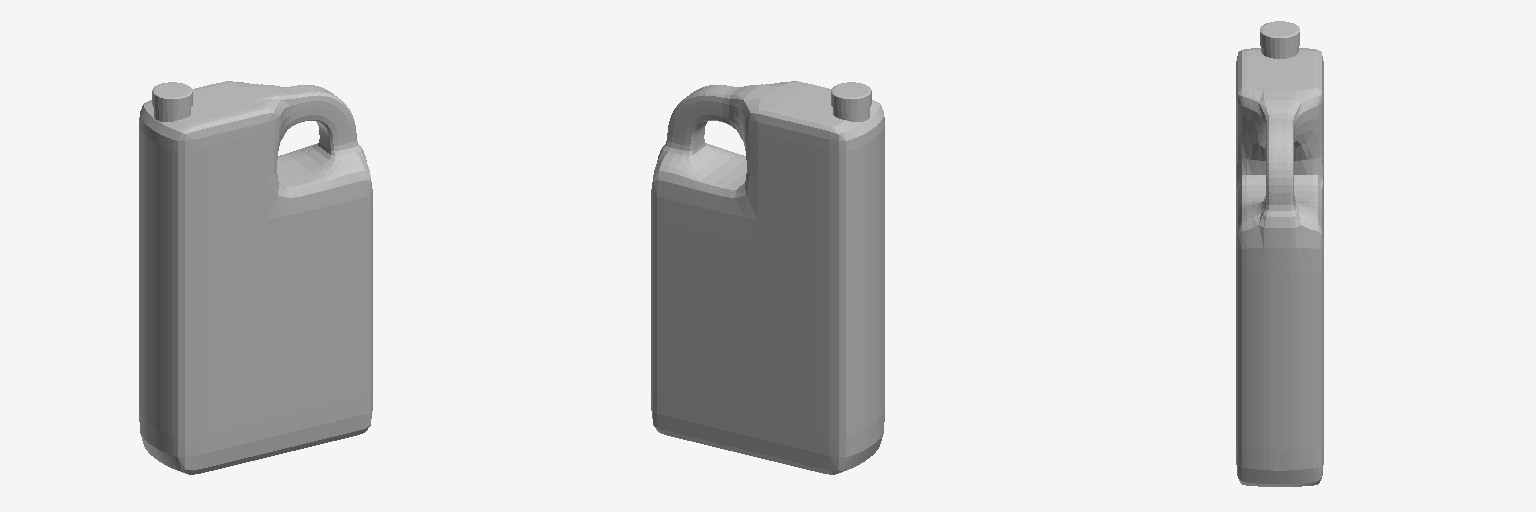
Rendered from Jug1.obj.
3 views of the same model, side by side, from view 1: azimuth 30°, elevation 25°; view 2: azimuth 150°, elevation 25°; view 3: azimuth 270°, elevation 25° (orthographic).
Bounding box in the file's own units: 0.2478 × 0.4192 × 0.0901.